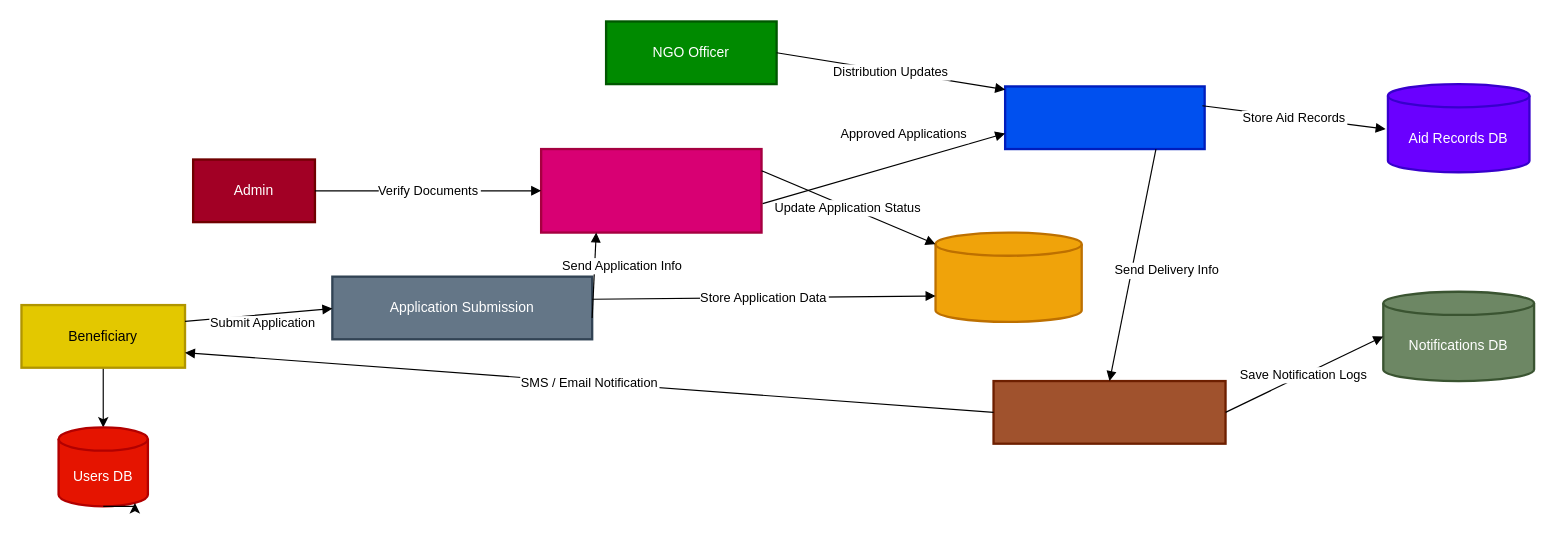
The diagram is 1554 pixels wide and 536 high, and some of its shapes have lost their labels. Each missing label, with the box of its shape:
Aid Distribution: (1003, 85, 1205, 150)
Applications DB: (934, 231, 1082, 322)
Notification System: (992, 379, 1226, 444)
Verification & Eligibility Check: (539, 147, 762, 233)
